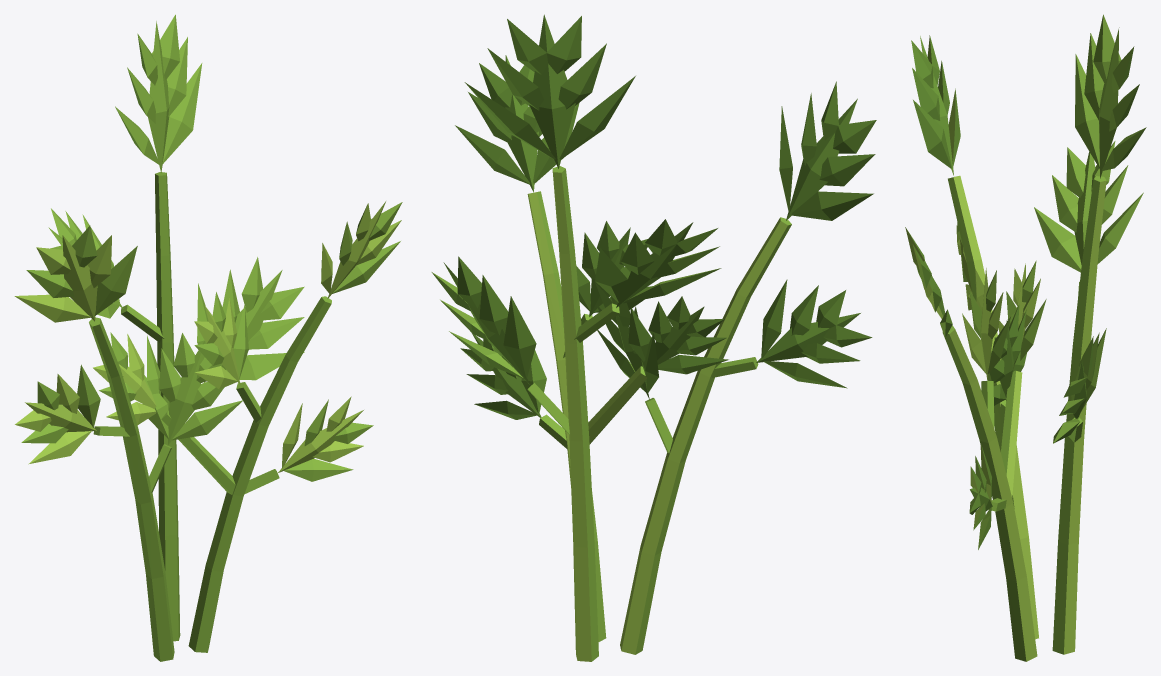
Rendered from FMS_Crop_Carrot_S1.fbx.
3 views of the same model, side by side, from view 1: azimuth 30°, elevation 25°; view 2: azimuth 150°, elevation 25°; view 3: azimuth 270°, elevation 25° (orthographic). The views are drawn at different scales.
Parts seen in each view (by area): view 1: FMS_Crop_Carrot_S1; view 2: FMS_Crop_Carrot_S1; view 3: FMS_Crop_Carrot_S1.
Part boxes in pixels (bbox=[...]): FMS_Crop_Carrot_S1: bbox=[14, 14, 402, 661]; FMS_Crop_Carrot_S1: bbox=[431, 14, 876, 661]; FMS_Crop_Carrot_S1: bbox=[905, 14, 1146, 661].
Bounding box in the file's own units: 0.2295 × 0.3421 × 0.1188.
